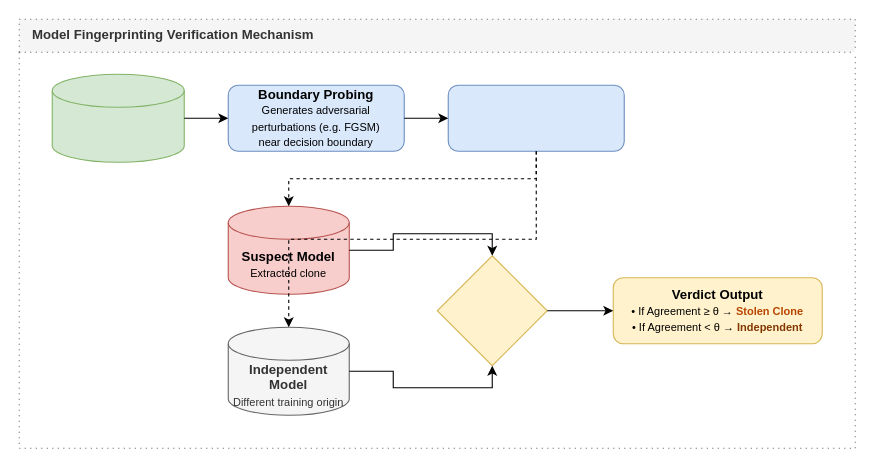
The diagram is 875 pixels wide and 468 high, and some of its shapes have lost their labels. Here are the shapes that lost their labels. From the top down, the box of each, then its label:
(51, 73, 184, 162): Victim Model Trained standardly Forms unique decision boundaries naturally
(447, 84, 624, 151): Fingerprint Dataset • Query Set: S • Expected predictions: Y
(436, 255, 547, 366): Agreement Evaluator Computes Jaccard similarity
